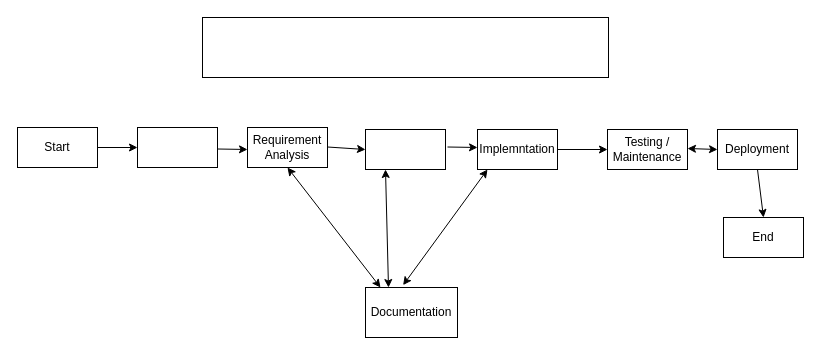
The diagram is 821 pixels wide and 355 high, and some of its shapes have lost their labels. Here are the shapes that lost their labels. From the top down, the centre of each, then its label:
At pixel 405 47: "Network Diagram on Project Development By Dipesh SHrestha".
At pixel 177 147: "Planning".
At pixel 405 149: "Design".
